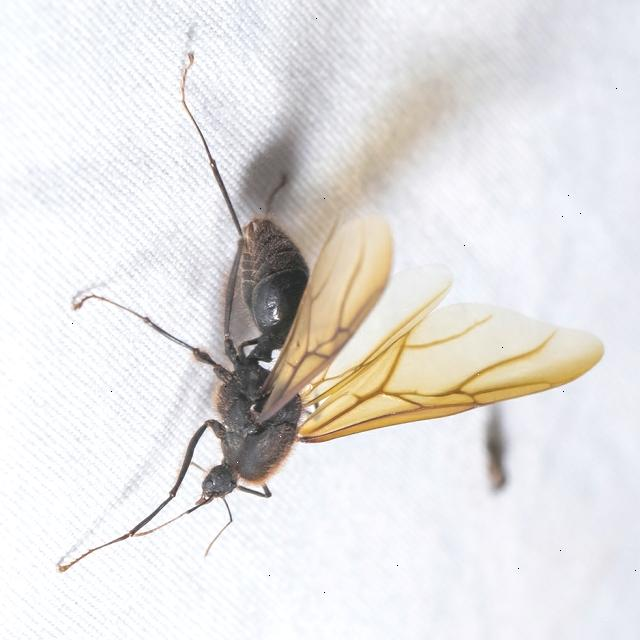Alive-Male-Alate: (56, 51, 604, 574)
